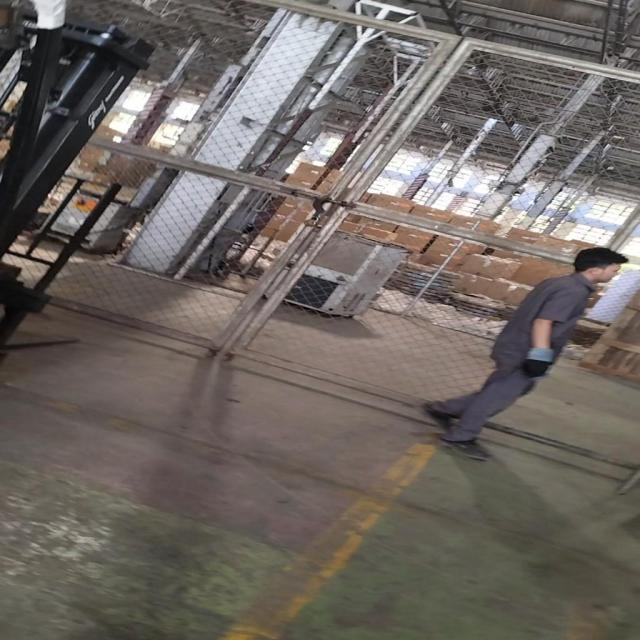Gloves-Detection: (521, 340, 557, 384)
